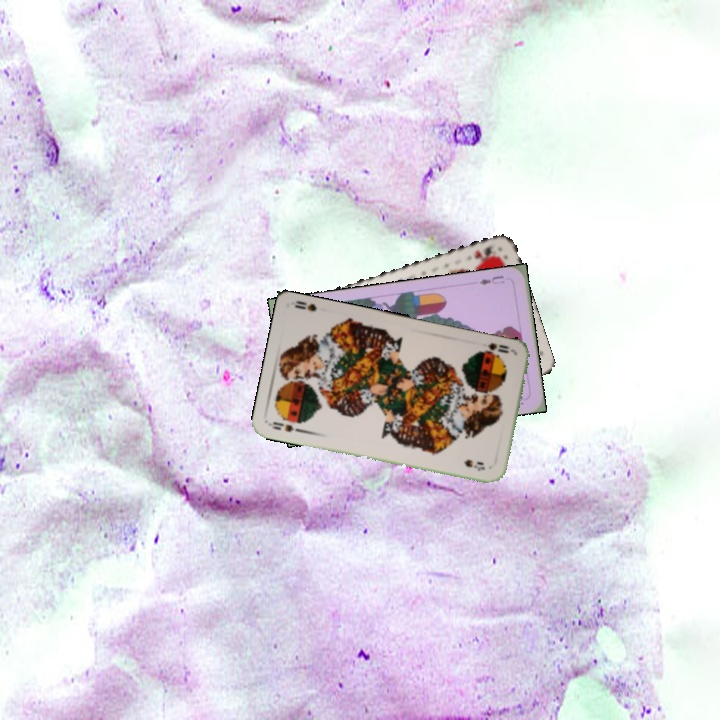EU: (475, 272, 507, 288)
HK: (470, 242, 498, 261)
SO: (474, 339, 515, 358), (266, 418, 306, 435)
